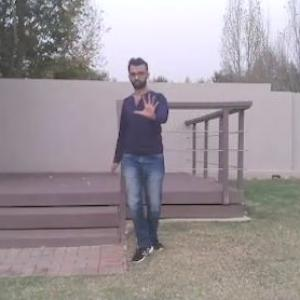follow_hand: (133, 87, 162, 123)
